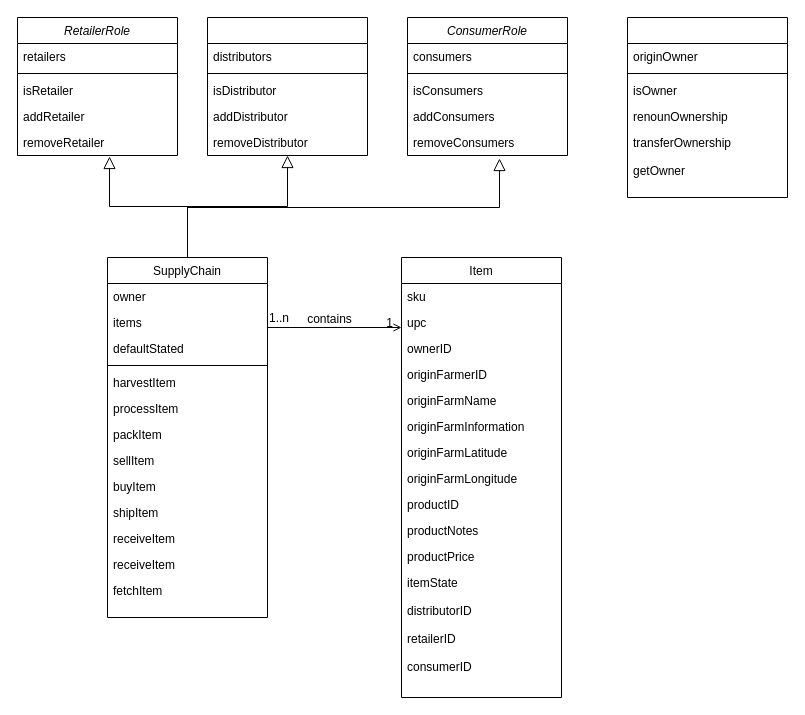
Image size: 805x715. Some labels were removed from this diagram. Here are the shapes that lost their labels. From the top down, the box of each, then its label:
(206, 16, 368, 156): DistributorRole
(626, 16, 788, 198): Ownable
